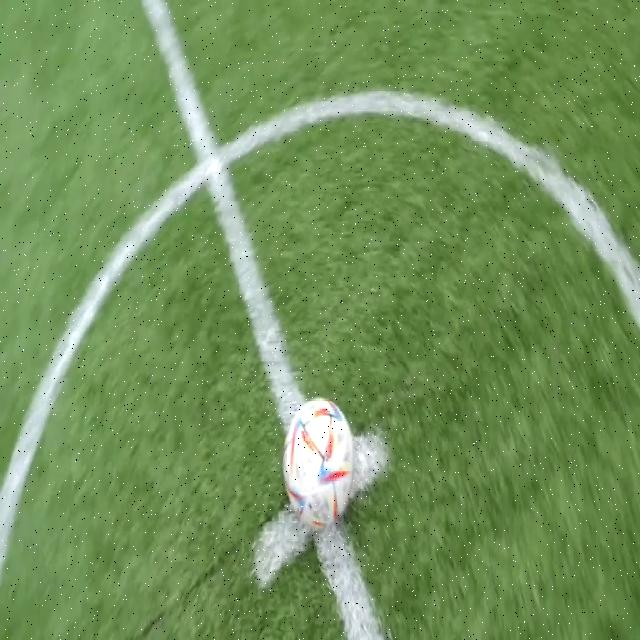ball: (283, 398, 354, 532)
